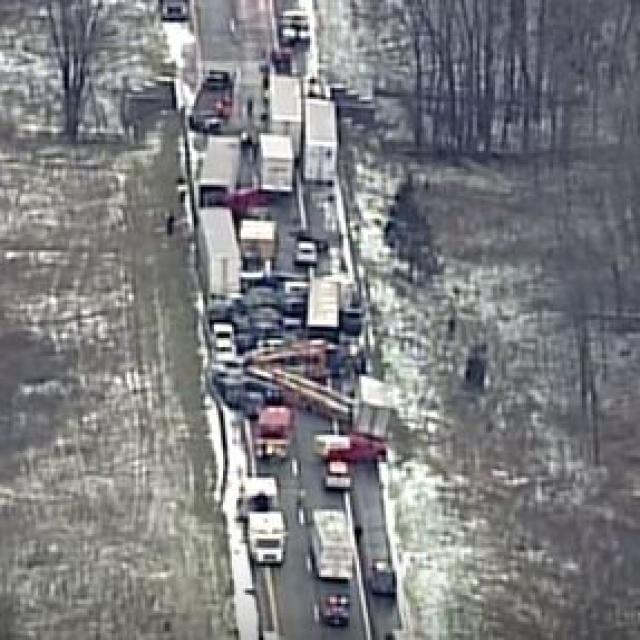traffic_incident: (185, 243, 426, 471)
